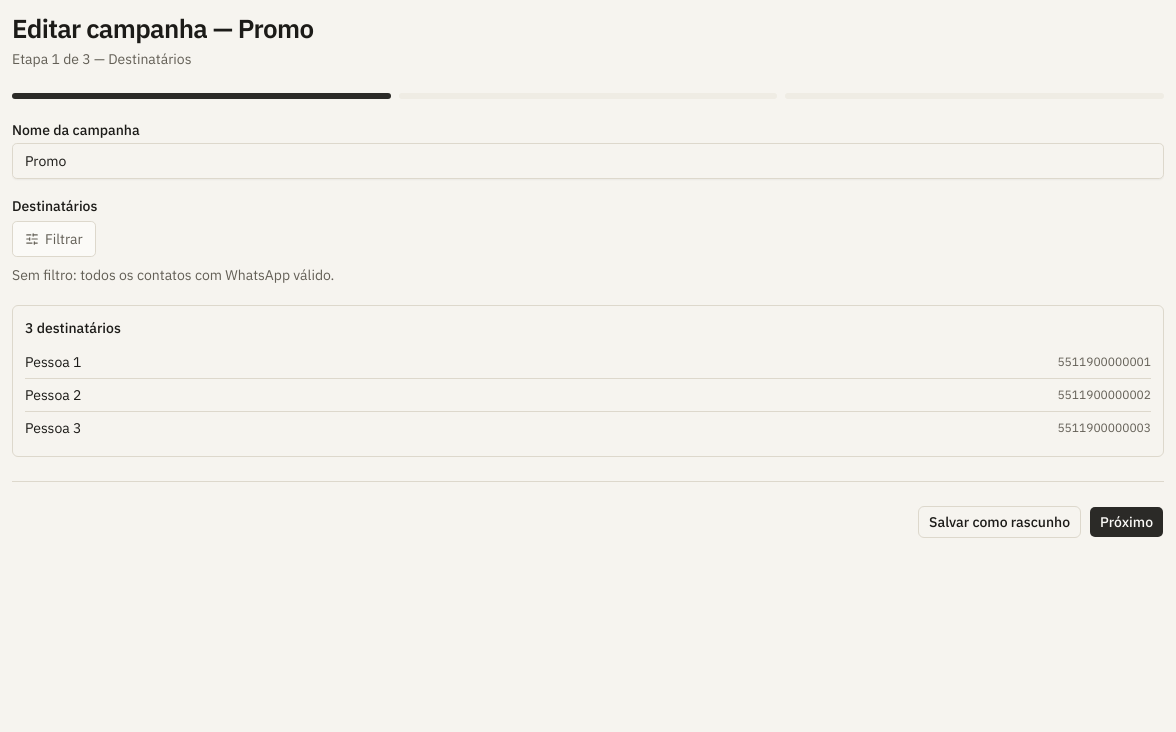
Test: B53-06 — aviso das 24h só na API Oficial › CA-B53-11: should esconder o aviso das 24h com número do canal direto e mostrar com número da API Oficial
Expected: the text "3 destinatários" is shown, top-left (25, 318), bottom-right (121, 338)
Click the button "Próximo". click: (1126, 522)
box: top-left (1089, 506), bottom-right (1164, 538)
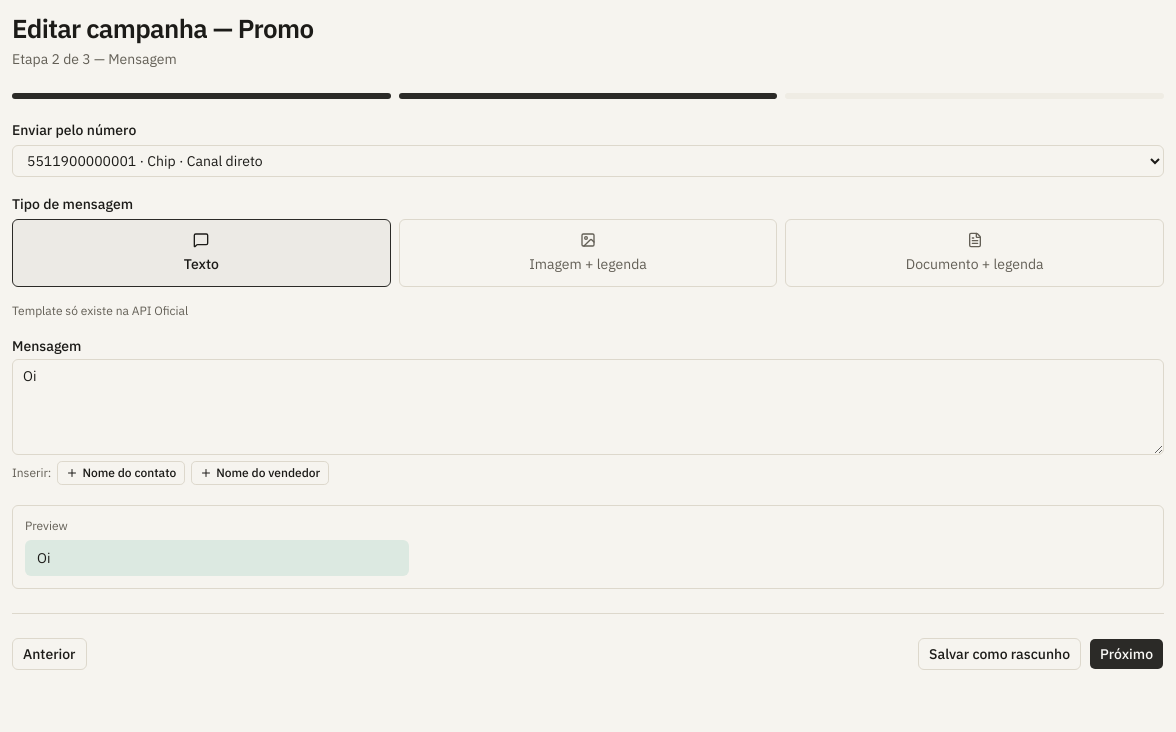
Expected: the text "A Meta só entrega mensagens livres para contatos que interagiram nas últimas 24" is not shown
Result: the text box labelled "Mensagem" is shown at top-left (12, 358), bottom-right (1164, 454)
Select "5511955046911 · Loja · API Oficial" in the dropdown labelled "Enviar pelo número". click: (588, 160)
box: top-left (12, 144), bottom-right (1164, 176)
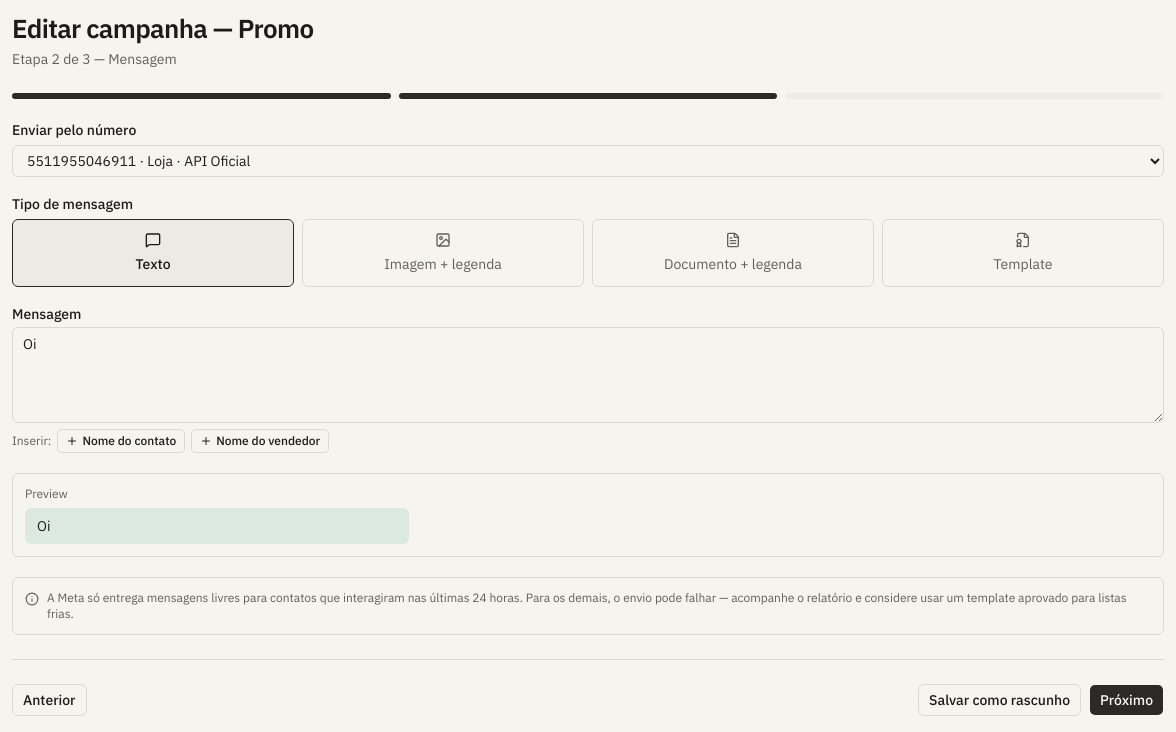
Result: the text "A Meta só entrega mensagens livres para contatos que interagiram nas últimas 24" is shown at top-left (47, 590), bottom-right (1127, 620)
